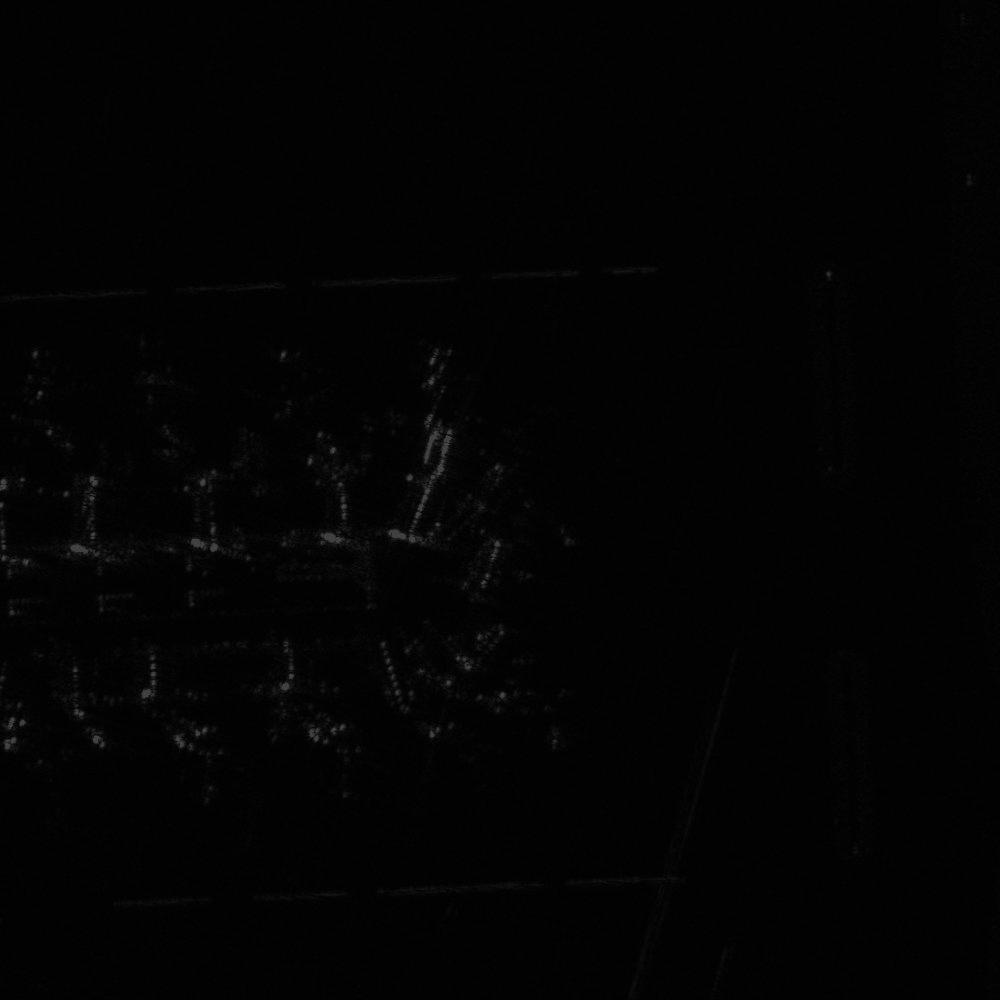A320/321: (245, 347, 340, 420), (122, 341, 204, 418), (391, 339, 480, 403), (314, 722, 384, 802)
Boeing787: (173, 727, 246, 812)
other: (15, 348, 100, 460)
